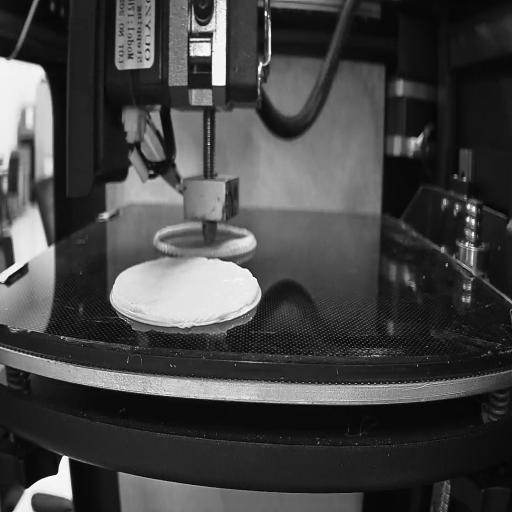over_extrusion: (238, 269, 260, 307)
